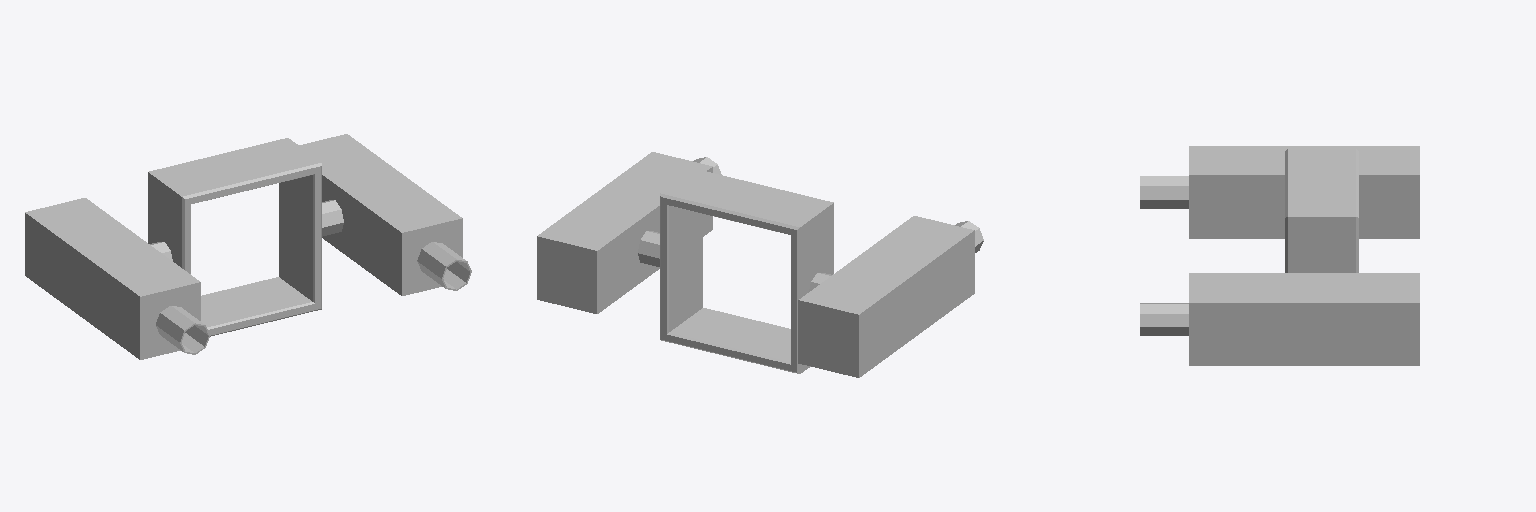
File: robot_dog_belt.obj
3 renders of one model, left to right at view 1: azimuth 30°, elevation 25°; view 2: azimuth 150°, elevation 25°; view 3: azimuth 270°, elevation 25°, orthographic.
Parts seen in each view (by area): view 1: Belt_Cube.002; view 2: Belt_Cube.002; view 3: Belt_Cube.002.
Boxes of the visible parts, x1=… form: Belt_Cube.002: x1=25, y1=134, x2=471, y2=359; Belt_Cube.002: x1=537, y1=152, x2=983, y2=377; Belt_Cube.002: x1=1140, y1=146, x2=1419, y2=365.
Bounding box in the file's own units: 5.31 × 2.31 × 4.